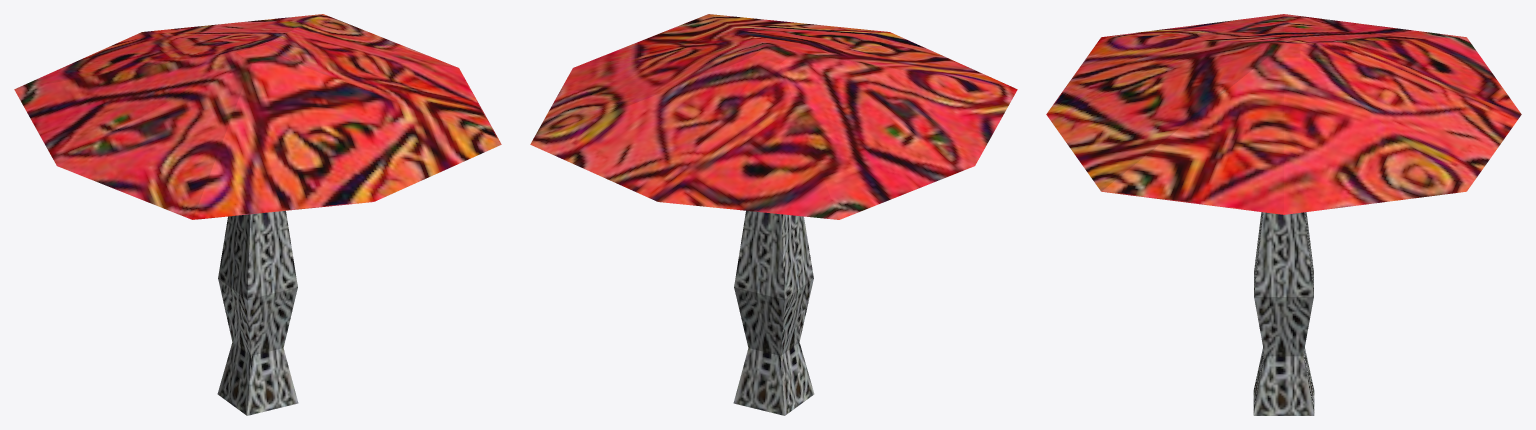
The model's file is Mushroom.fbx.
The picture shows the model from 3 angles, left to right: view 1: azimuth 30°, elevation 25°; view 2: azimuth 150°, elevation 25°; view 3: azimuth 270°, elevation 25°; orthographic projection. The views are drawn at different scales.
Parts seen in each view (by area): view 1: Cube.003, Cube.004; view 2: Cube.003, Cube.004; view 3: Cube.003, Cube.004.
Part boxes in pixels (<box>): Cube.003: <box>14,14,501,219</box>; Cube.004: <box>217,210,298,415</box>; Cube.003: <box>530,14,1017,219</box>; Cube.004: <box>733,210,814,415</box>; Cube.003: <box>1046,14,1521,214</box>; Cube.004: <box>1253,212,1314,415</box>.
Size of the model in its own units: 1565 by 1280 by 1565.
